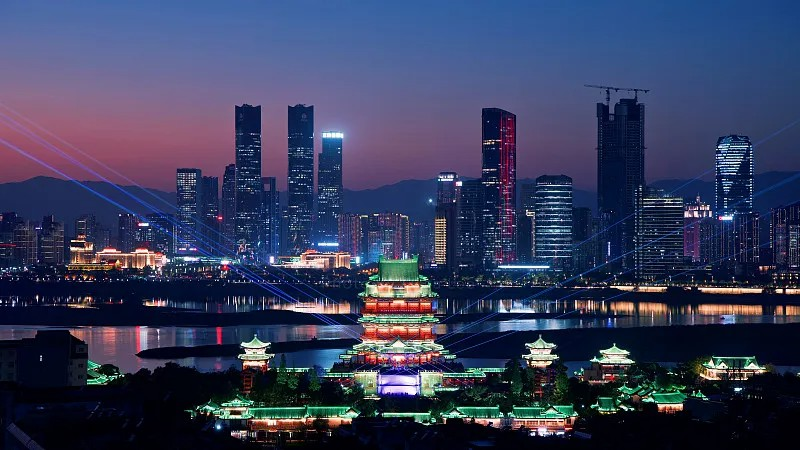Teng: (340, 256, 457, 366)
